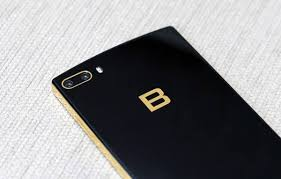bphone: (44, 18, 281, 179)
